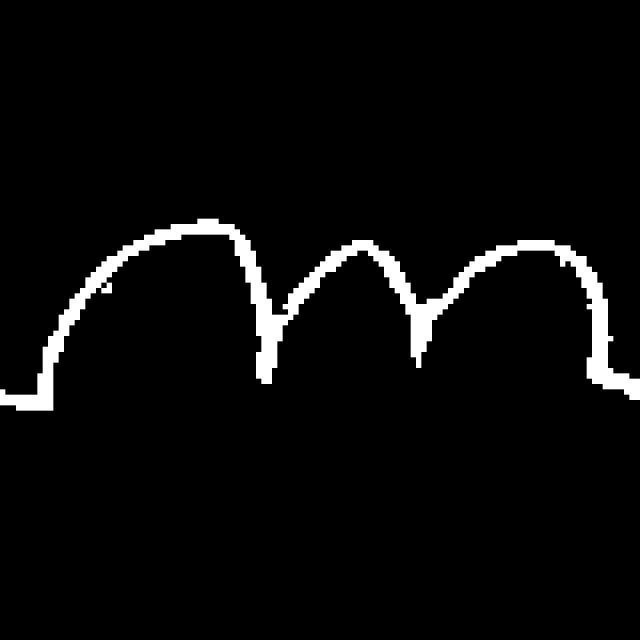inductor: (18, 186, 616, 469)
